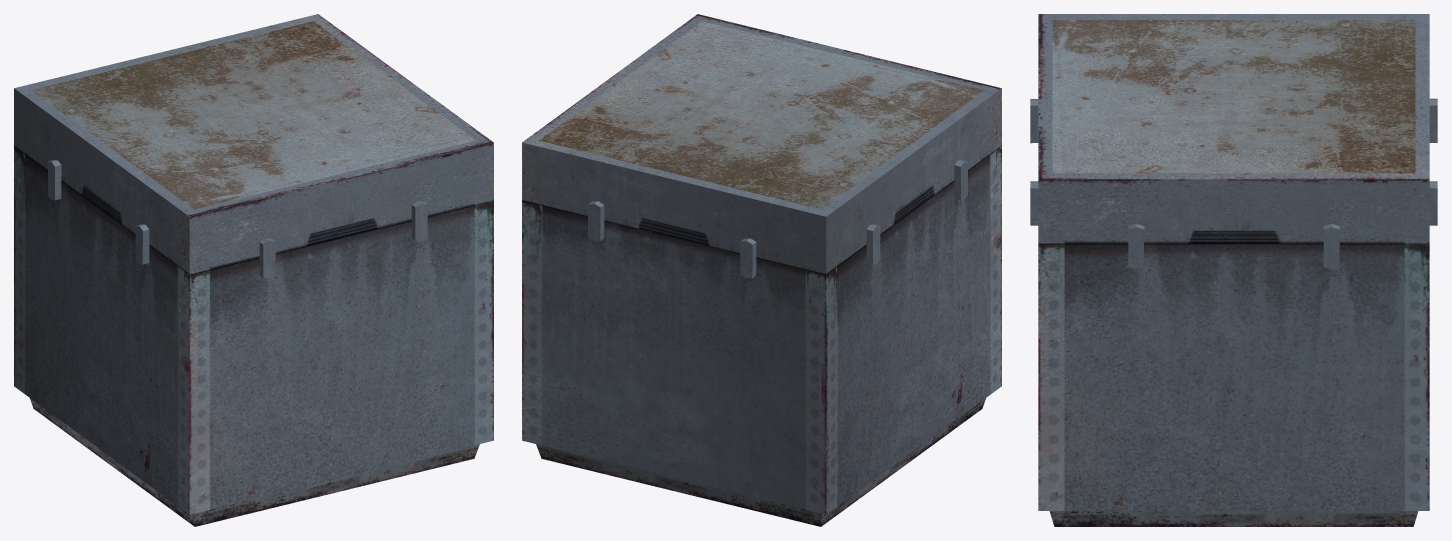
File: other_small_metalcrate01.dae
3 renders of one model, left to right at view 1: azimuth 30°, elevation 25°; view 2: azimuth 150°, elevation 25°; view 3: azimuth 270°, elevation 25°, orthographic. The views are drawn at different scales.
Visible parts, largest first — view 1: metalcrate01; view 2: metalcrate01; view 3: metalcrate01.
Boxes of the visible parts, x1=… form: metalcrate01: x1=14, y1=14, x2=493, y2=526; metalcrate01: x1=522, y1=14, x2=1001, y2=526; metalcrate01: x1=1030, y1=14, x2=1437, y2=526.
Size of what is drawn, in the model's own units: 0.7339 by 0.7042 by 0.7339.
